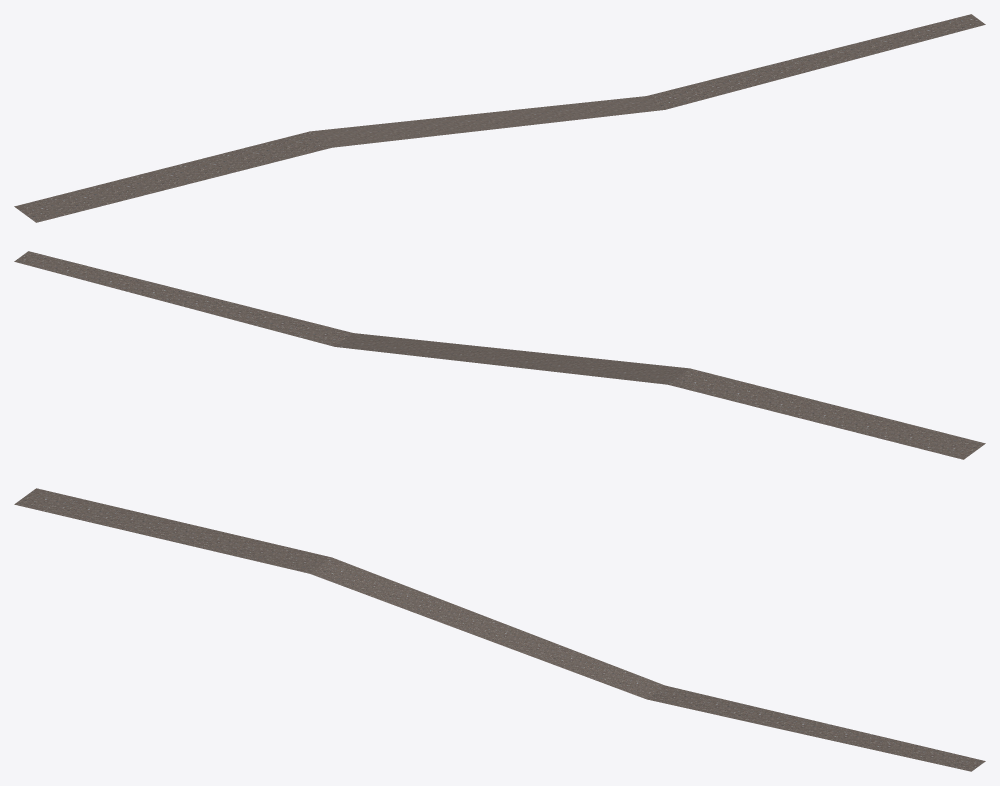
The model's file is TunnelFloor_2.fbx.
3 renders of one model, top to bottom at view 1: azimuth 30°, elevation 25°; view 2: azimuth 150°, elevation 25°; view 3: azimuth 330°, elevation 25°, orthographic.
Visible parts, largest first — view 1: TunnelFloor_2; view 2: TunnelFloor_2; view 3: TunnelFloor_2.
Boxes of the visible parts, box(x1,y1,x2,y2) form: TunnelFloor_2: box(14, 14, 985, 222); TunnelFloor_2: box(14, 251, 985, 459); TunnelFloor_2: box(14, 488, 985, 771).
Bounding box in the file's own units: 49.3 × 2.23 × 2.
